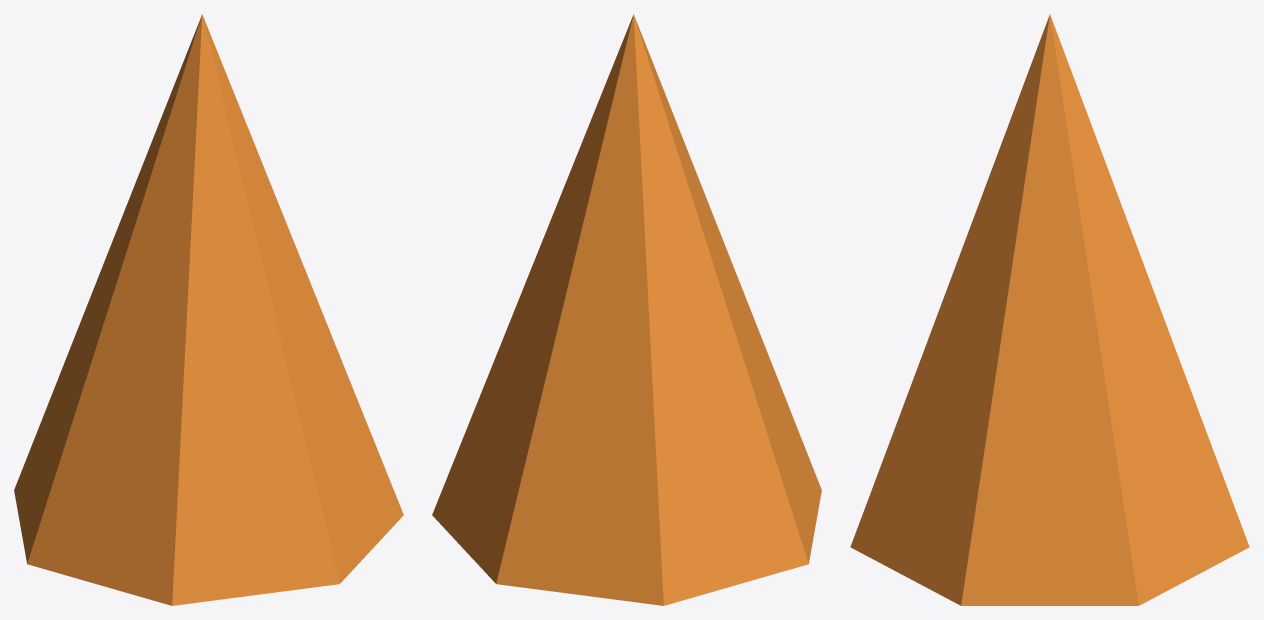
File: home_flame.fbx
3 renders of one model, left to right at view 1: azimuth 30°, elevation 25°; view 2: azimuth 150°, elevation 25°; view 3: azimuth 270°, elevation 25°, orthographic.
Visible parts, largest first — view 1: home_flame; view 2: home_flame; view 3: home_flame.
Boxes of the visible parts, x1=… form: home_flame: x1=14, y1=14, x2=403, y2=605; home_flame: x1=432, y1=14, x2=821, y2=605; home_flame: x1=850, y1=14, x2=1249, y2=605.
Size of the model in its own units: 0.2471 by 0.36 by 0.2535.
